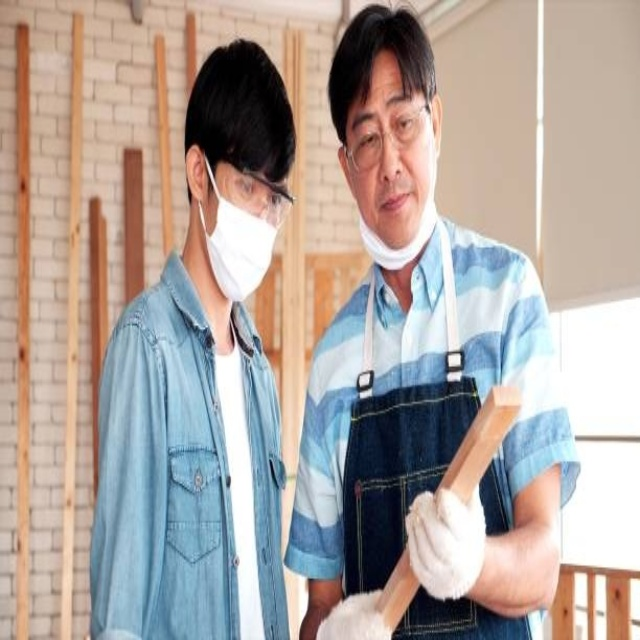Gafas: (345, 103, 431, 171), (215, 160, 297, 227)
Guantes: (406, 485, 486, 602), (316, 589, 396, 640)
Mascara: (206, 175, 283, 311)
Sin_mascara: (374, 184, 415, 238)
